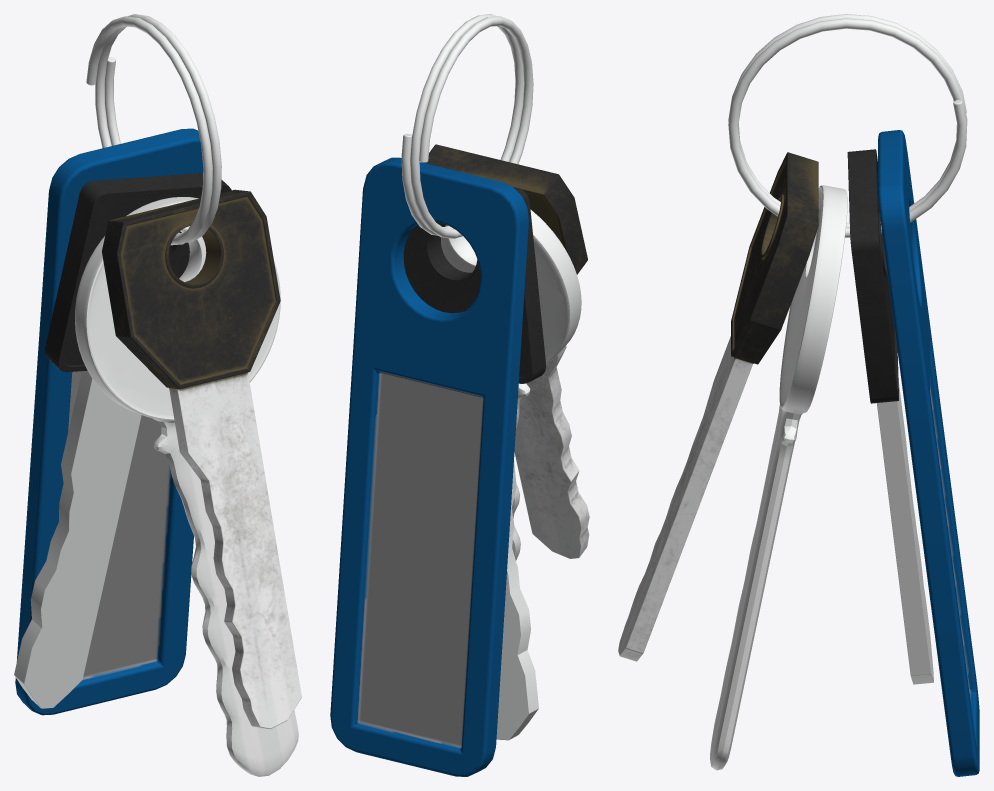
3 views of the same model, side by side, from view 1: azimuth 30°, elevation 25°; view 2: azimuth 150°, elevation 25°; view 3: azimuth 270°, elevation 25° (orthographic). The views are drawn at different scales.
Visible parts, largest first — view 1: key_2, name, Key_3, Key_1, ring; view 2: name, key_2, Key_3, ring, Key_1; view 3: name, key_2, Key_1, Key_3, ring.
Boxes of the visible parts, x1,y1,x2,y2 form: key_2: [102, 189, 301, 729]; name: [15, 128, 203, 715]; Key_3: [14, 173, 231, 708]; Key_1: [75, 197, 298, 776]; ring: [86, 14, 221, 245]; name: [330, 157, 528, 776]; key_2: [423, 144, 589, 558]; Key_3: [403, 188, 546, 740]; ring: [401, 14, 533, 238]; Key_1: [441, 209, 581, 560]; name: [878, 130, 979, 776]; key_2: [618, 152, 818, 661]; Key_1: [710, 185, 847, 770]; Key_3: [847, 149, 933, 684]; ring: [728, 14, 967, 237].
Bounding box in the file's own units: 0.1041 × 0.3517 × 0.1578.
Materials: 5 (5 with a texture image).
